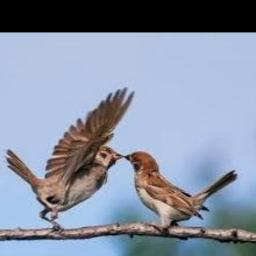Sparrow: (6, 89, 135, 230), (126, 151, 239, 233)
